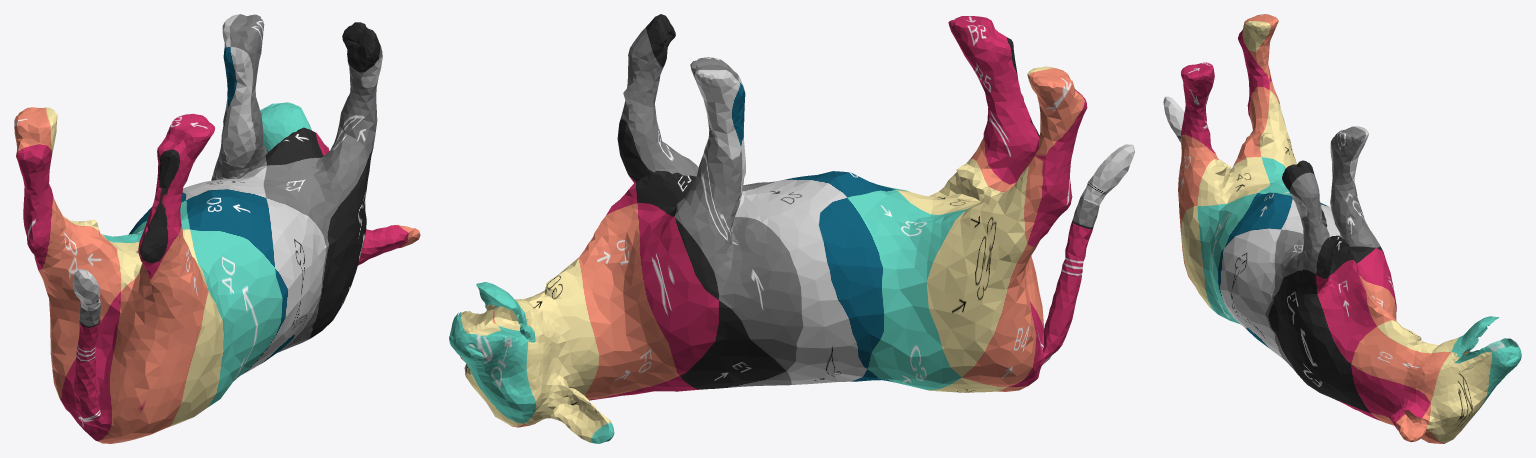
File: fox_01-cow_04.obj
3 views of the same model, side by side, from view 1: azimuth 30°, elevation 25°; view 2: azimuth 150°, elevation 25°; view 3: azimuth 270°, elevation 25° (orthographic). The views are drawn at different scales.
Parts seen in each view (by area): view 1: fox_01-cow_04_export; view 2: fox_01-cow_04_export; view 3: fox_01-cow_04_export.
Boxes of the visible parts, left/top/right/bottom form: fox_01-cow_04_export: left=14, top=14, right=420, bottom=443; fox_01-cow_04_export: left=449, top=14, right=1134, bottom=443; fox_01-cow_04_export: left=1163, top=14, right=1521, bottom=443.
Size of the model in its own units: 0.8521 by 0.5666 by 0.6736.
